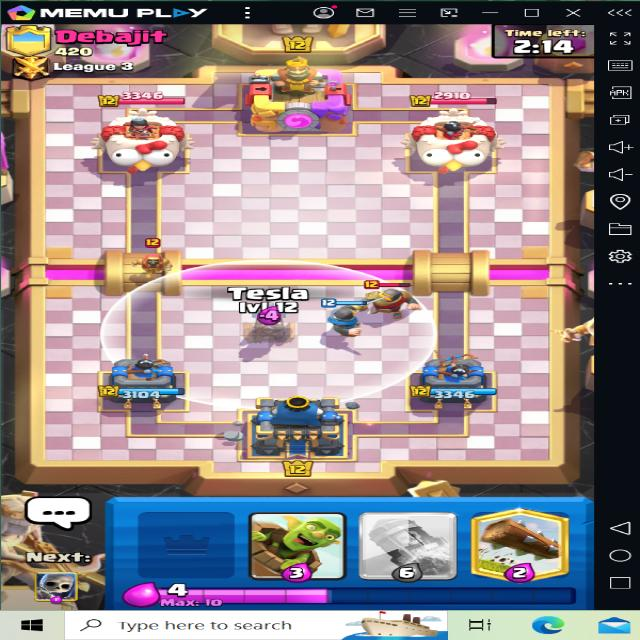knight: (349, 269, 422, 322)
wizard: (124, 230, 186, 285)
